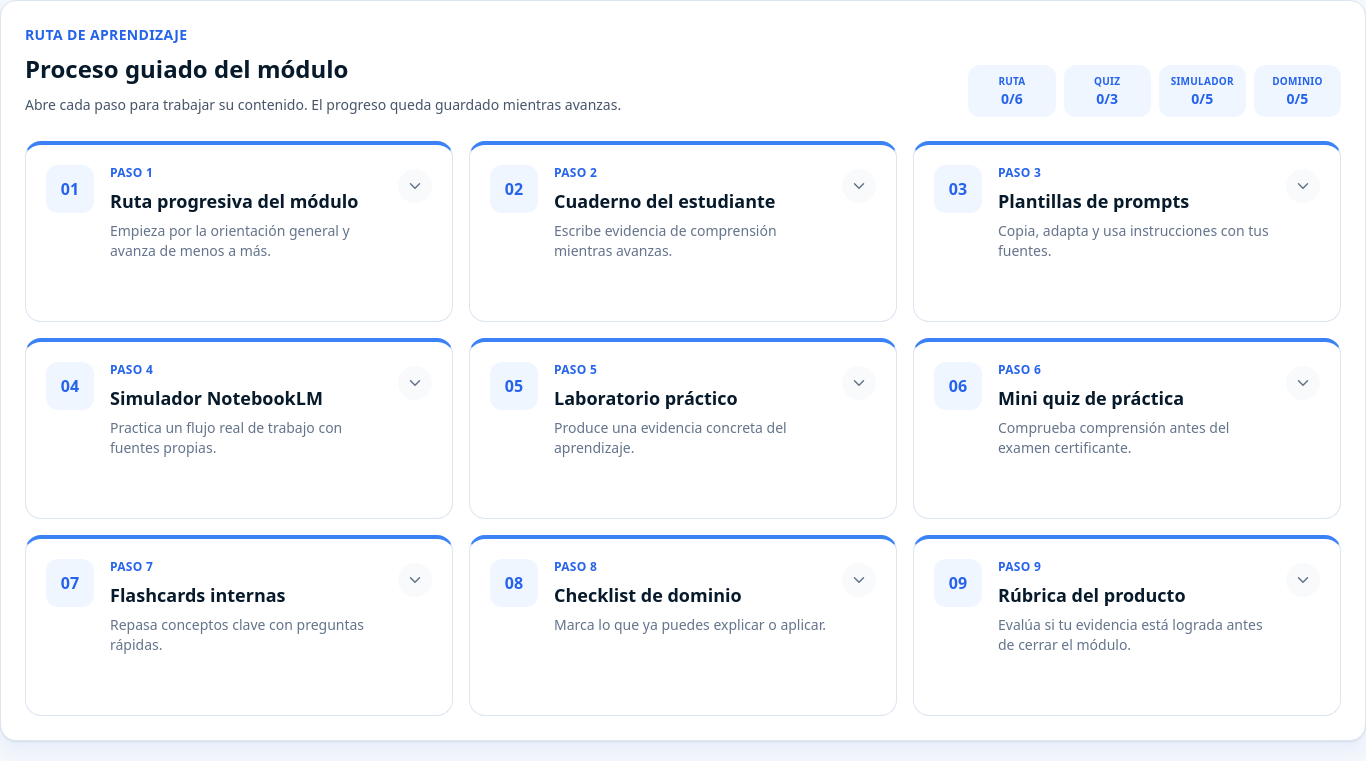
collapsible learning boxes › opens one step at a time and can close the active step
Click the button with aria-label "Paso 2:". click: {"x": 683, "y": 233}
box: [470,145,896,321]
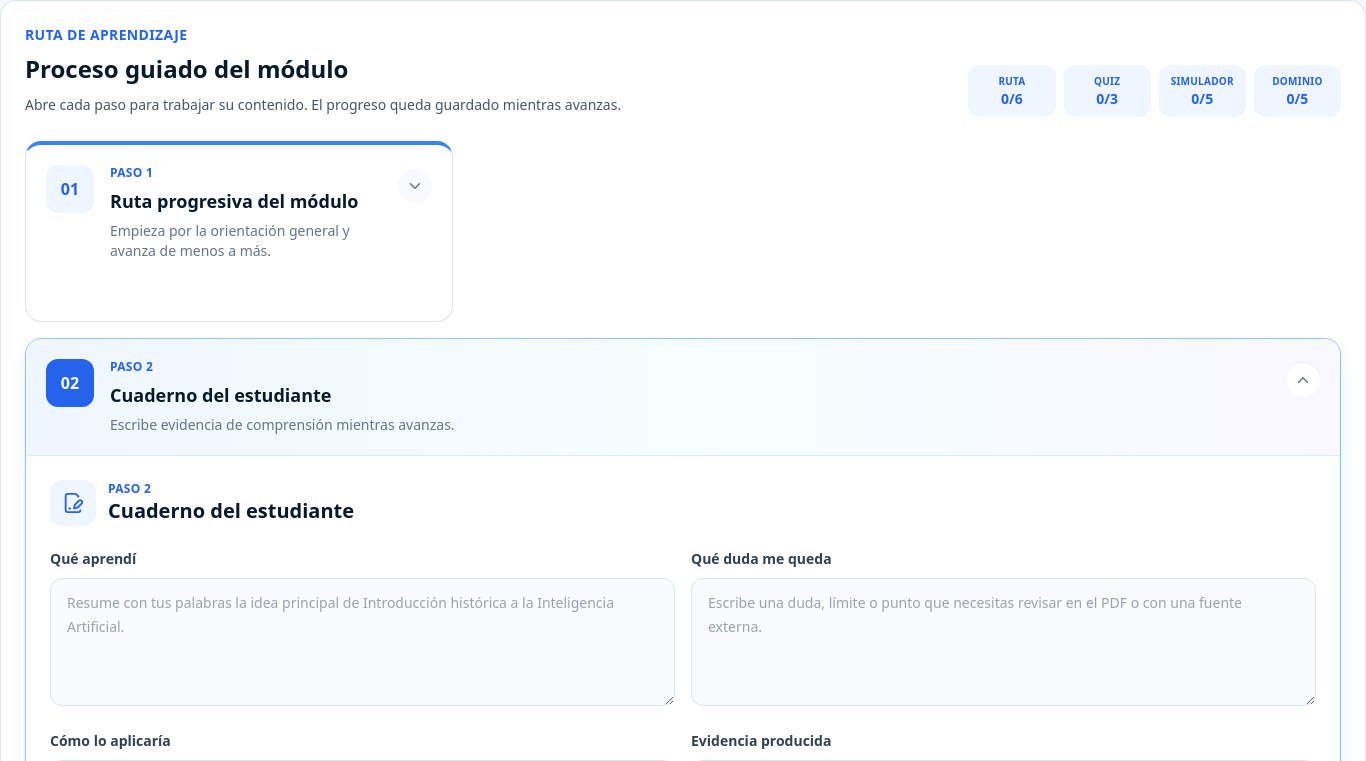
expect the button with aria-label "Paso 2:" is expanded: met
expect the text box labelled "Qué aprendí" is shown: met, box [50,578,675,706]
Click the button with aria-label "Paso 2:". click: {"x": 683, "y": 397}
box: [26,339,1340,455]
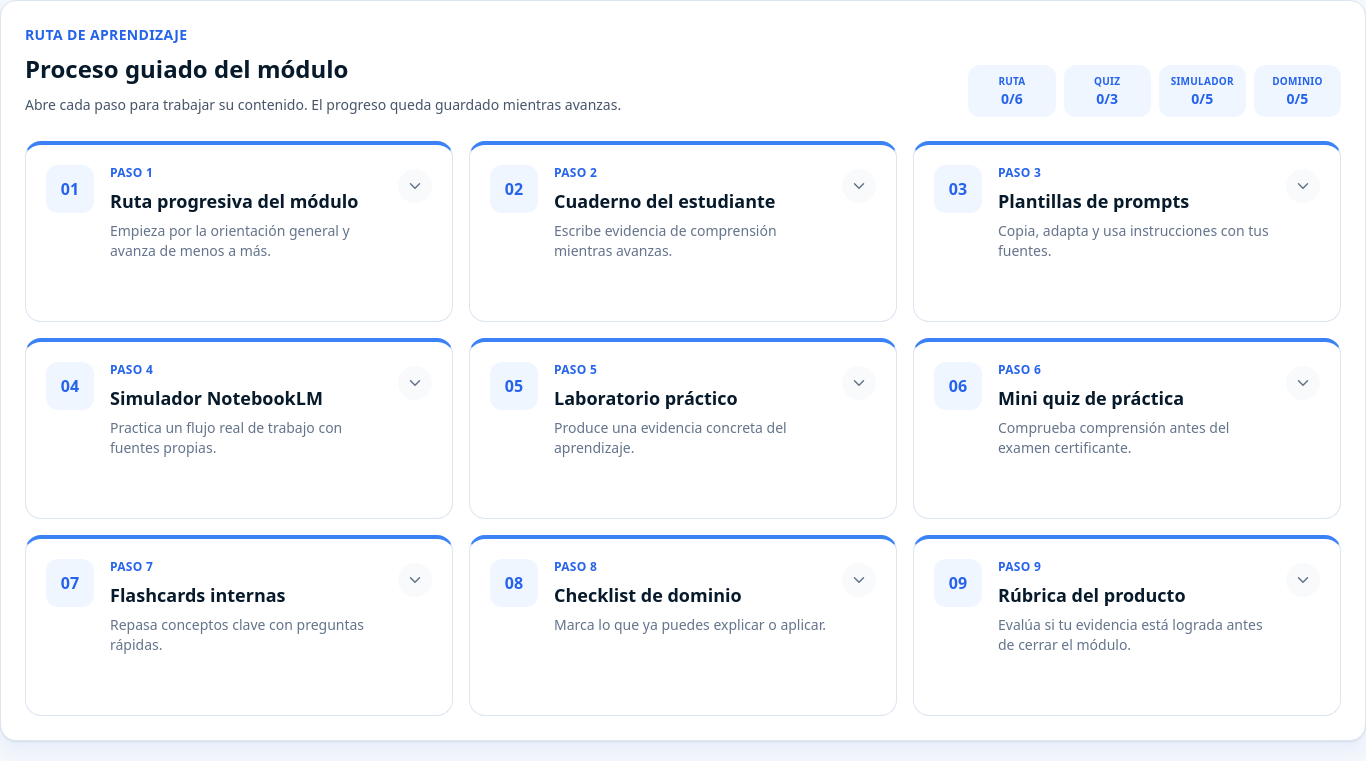
expect the button with aria-label "Paso 2:" is collapsed: met, box [470,145,896,321]
